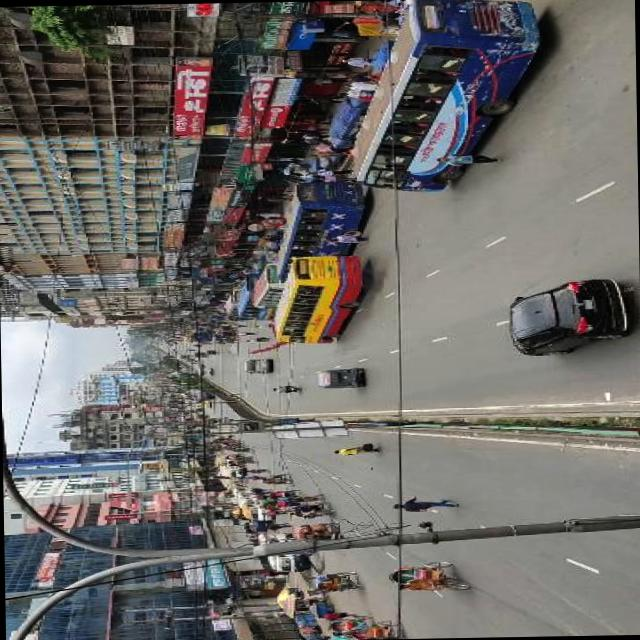bus: (345, 0, 550, 192), (271, 175, 371, 281), (267, 251, 365, 343), (232, 268, 274, 318), (250, 258, 286, 310), (266, 552, 310, 571), (238, 500, 276, 520)
car: (499, 276, 630, 358)
motorcycle: (384, 558, 471, 592), (312, 364, 364, 387), (314, 568, 364, 591), (346, 616, 398, 638), (328, 613, 372, 633), (290, 498, 332, 514), (258, 471, 292, 484), (270, 382, 298, 390)
truck: (241, 354, 271, 372)
